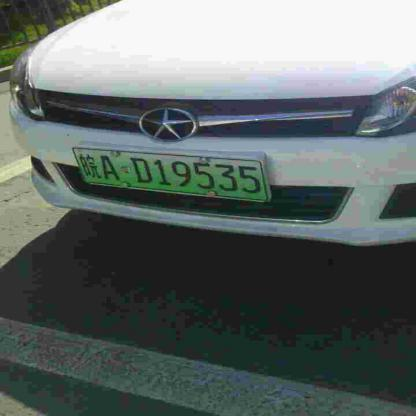lp: (73, 148, 268, 200)
